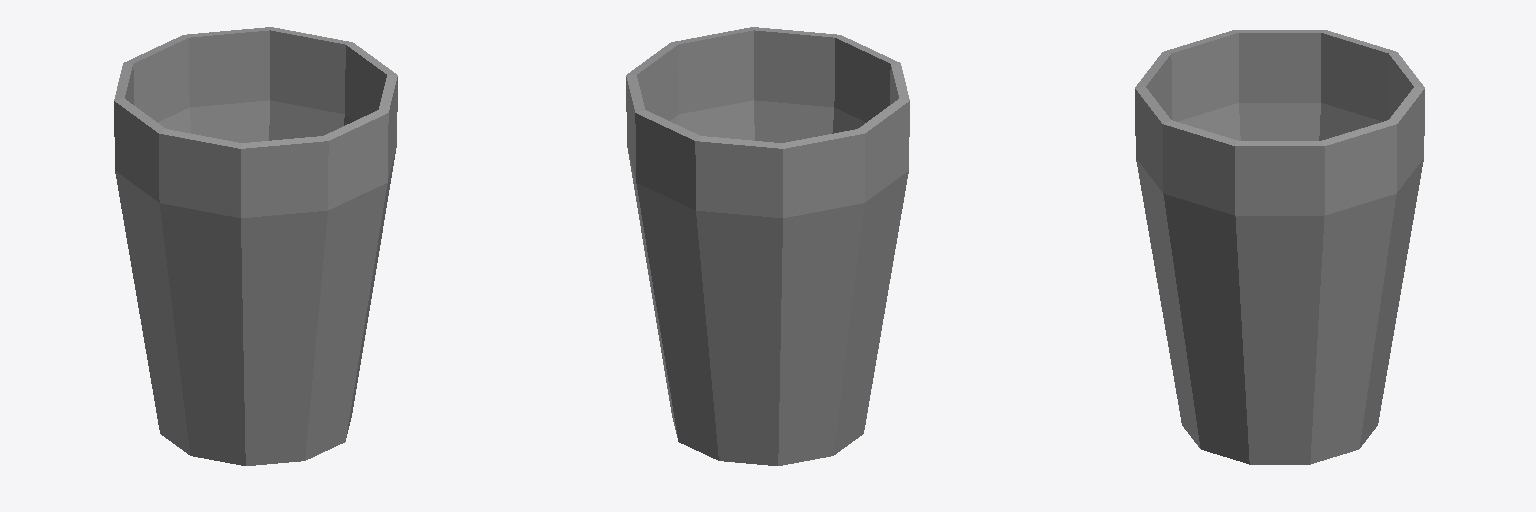
The model's file is origin_cup.obj.
3 views of the same model, side by side, from view 1: azimuth 30°, elevation 25°; view 2: azimuth 150°, elevation 25°; view 3: azimuth 270°, elevation 25° (orthographic).
Visible parts, largest first — view 1: PaperCup_Cylinder; view 2: PaperCup_Cylinder; view 3: PaperCup_Cylinder.
Boxes of the visible parts, x1=… form: PaperCup_Cylinder: x1=114, y1=27, x2=397, y2=465; PaperCup_Cylinder: x1=626, y1=27, x2=909, y2=465; PaperCup_Cylinder: x1=1135, y1=30, x2=1424, y2=464.
Bounding box in the file's own units: 0.3185 × 0.4306 × 0.3349.